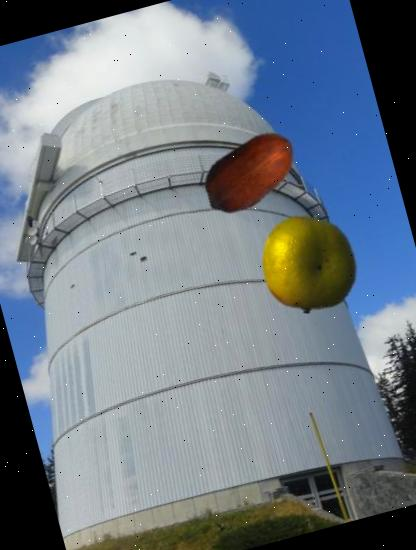Nut: (186, 109, 315, 238)
Pomelo: (250, 203, 370, 324)
